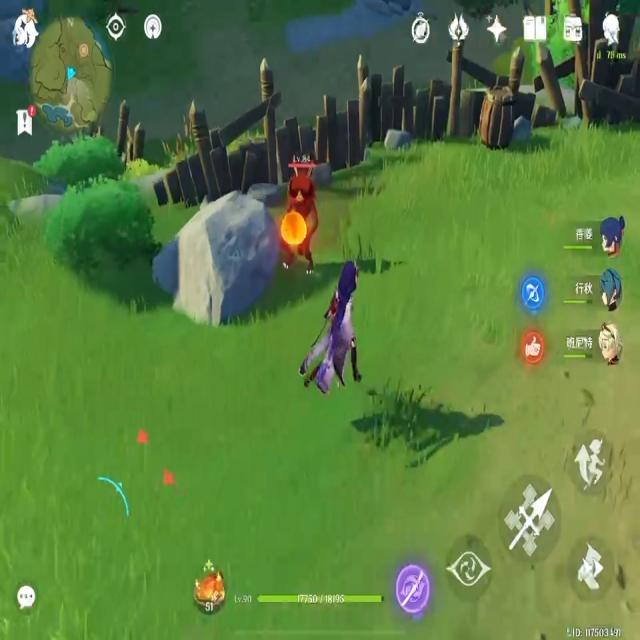genshin-hilichurls: (273, 143, 322, 275)
